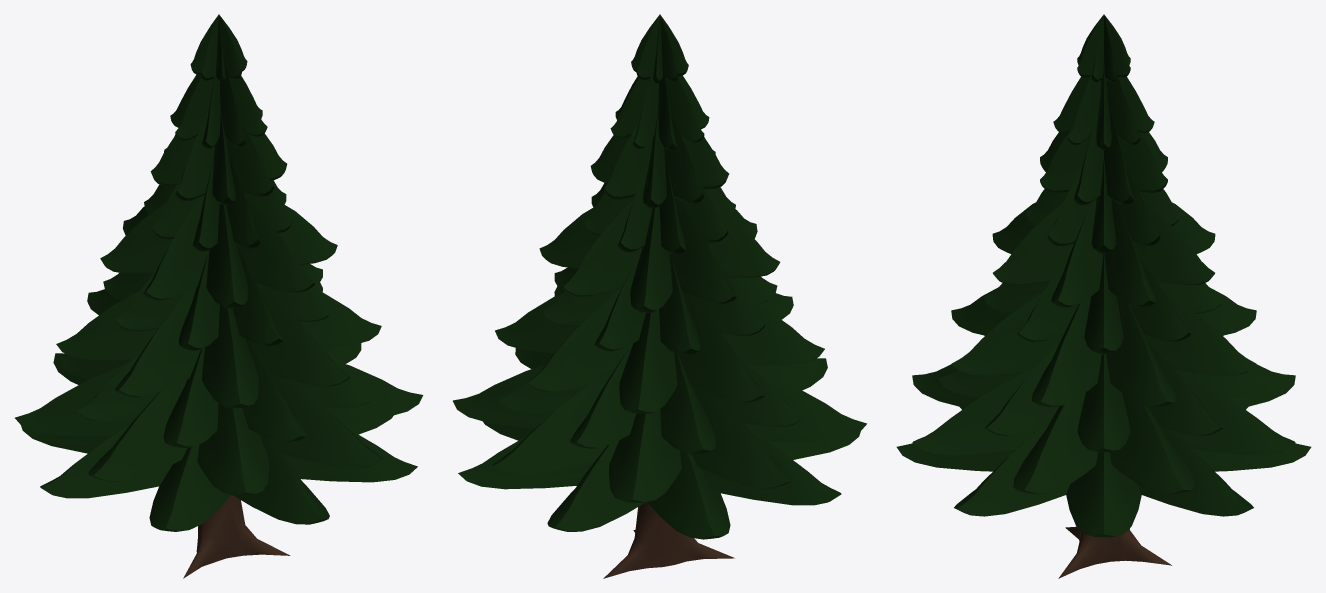
Rendered from Tree1.glb.
3 renders of one model, left to right at view 1: azimuth 30°, elevation 25°; view 2: azimuth 150°, elevation 25°; view 3: azimuth 270°, elevation 25°, orthographic.
Visible parts, largest first — view 1: Tree; view 2: Tree; view 3: Tree.
Boxes of the visible parts, x1,y1,x2,y2 form: Tree: (15, 14, 423, 578); Tree: (453, 14, 866, 578); Tree: (896, 14, 1311, 578).
Bounding box in the file's own units: 13.23 × 19.01 × 13.23.
